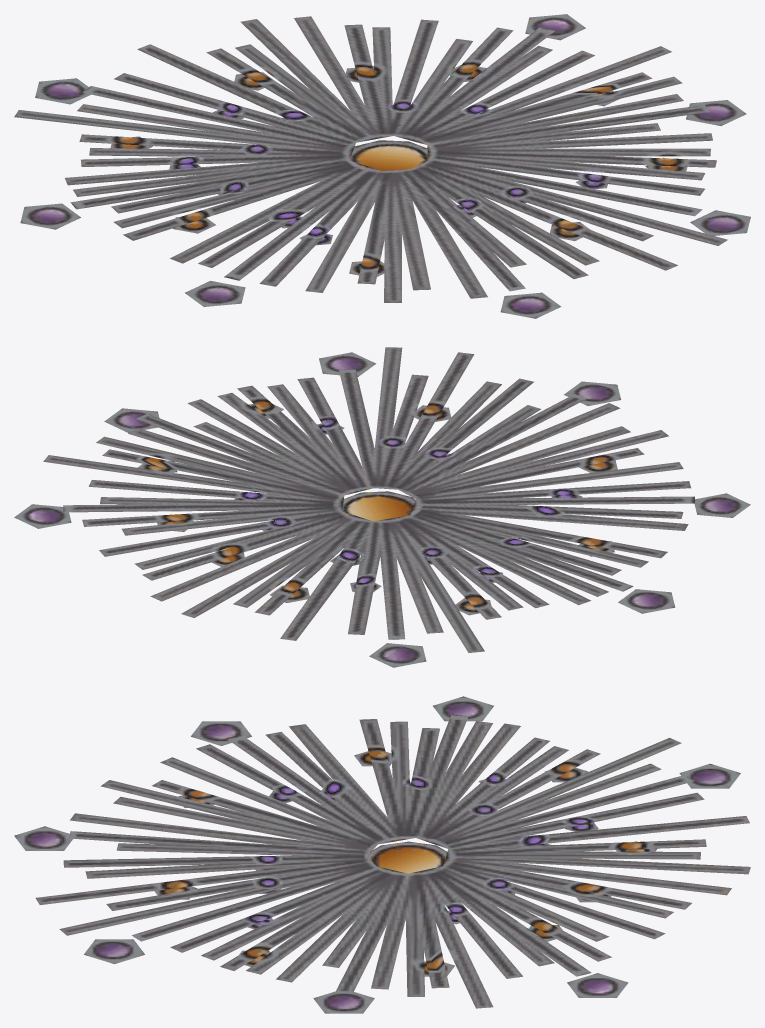
The model's file is nt_2020_wall_art_prop_02_LOD1.obj.
3 views of the same model, one above another, from view 1: azimuth 30°, elevation 25°; view 2: azimuth 150°, elevation 25°; view 3: azimuth 270°, elevation 25° (orthographic). The views are drawn at different scales.
Visible parts, largest first — view 1: mtl_nt_2020_wall_art_02; view 2: mtl_nt_2020_wall_art_02; view 3: mtl_nt_2020_wall_art_02.
Part boxes in pixels (box(x1,y1,x2,y2)): mtl_nt_2020_wall_art_02: box(14, 14, 750, 318); mtl_nt_2020_wall_art_02: box(14, 347, 750, 667); mtl_nt_2020_wall_art_02: box(14, 696, 750, 1013).
Bounding box in the file's own units: 109 × 0.9345 × 107.
